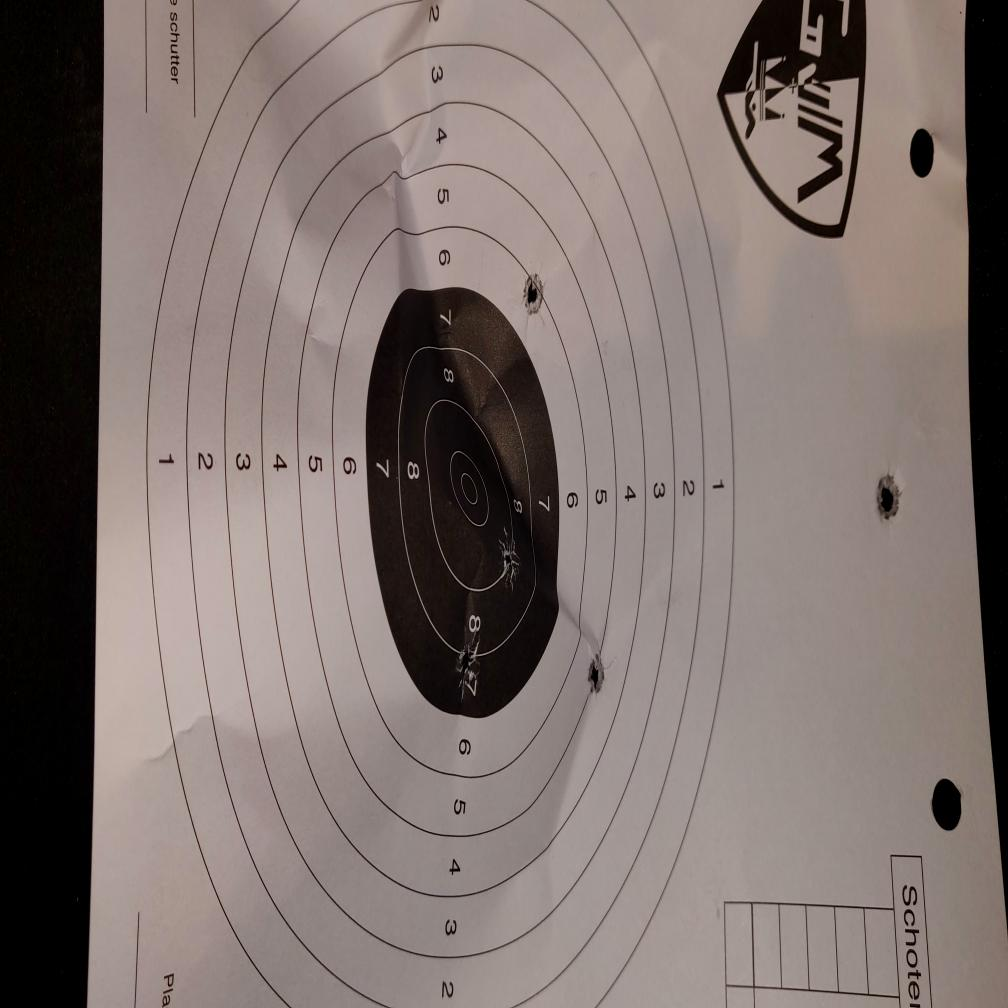0: (875, 467, 901, 526)
5: (587, 653, 604, 696)
6: (522, 269, 546, 318)
8: (454, 627, 479, 687)
9: (500, 530, 520, 584)
Target: (144, 0, 737, 1008)
black_contour: (365, 286, 559, 721)
